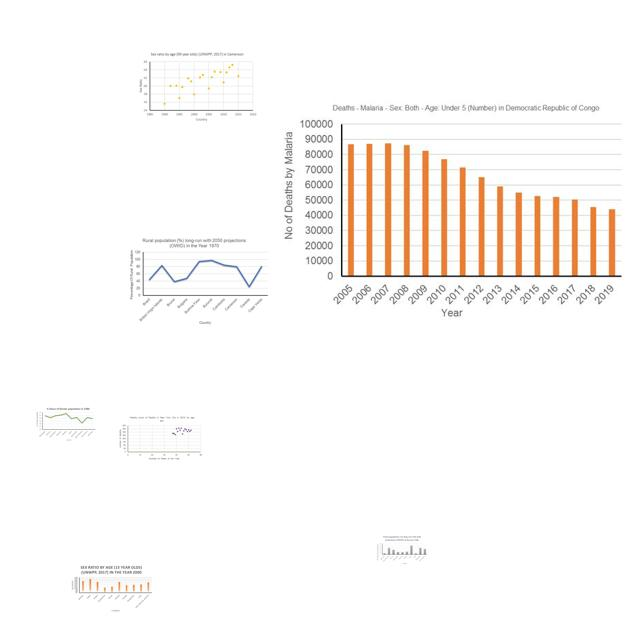Graph: (277, 100, 627, 324), (126, 236, 270, 327), (136, 51, 258, 122), (117, 415, 204, 463), (69, 564, 153, 613), (35, 406, 97, 443), (376, 535, 428, 565)
